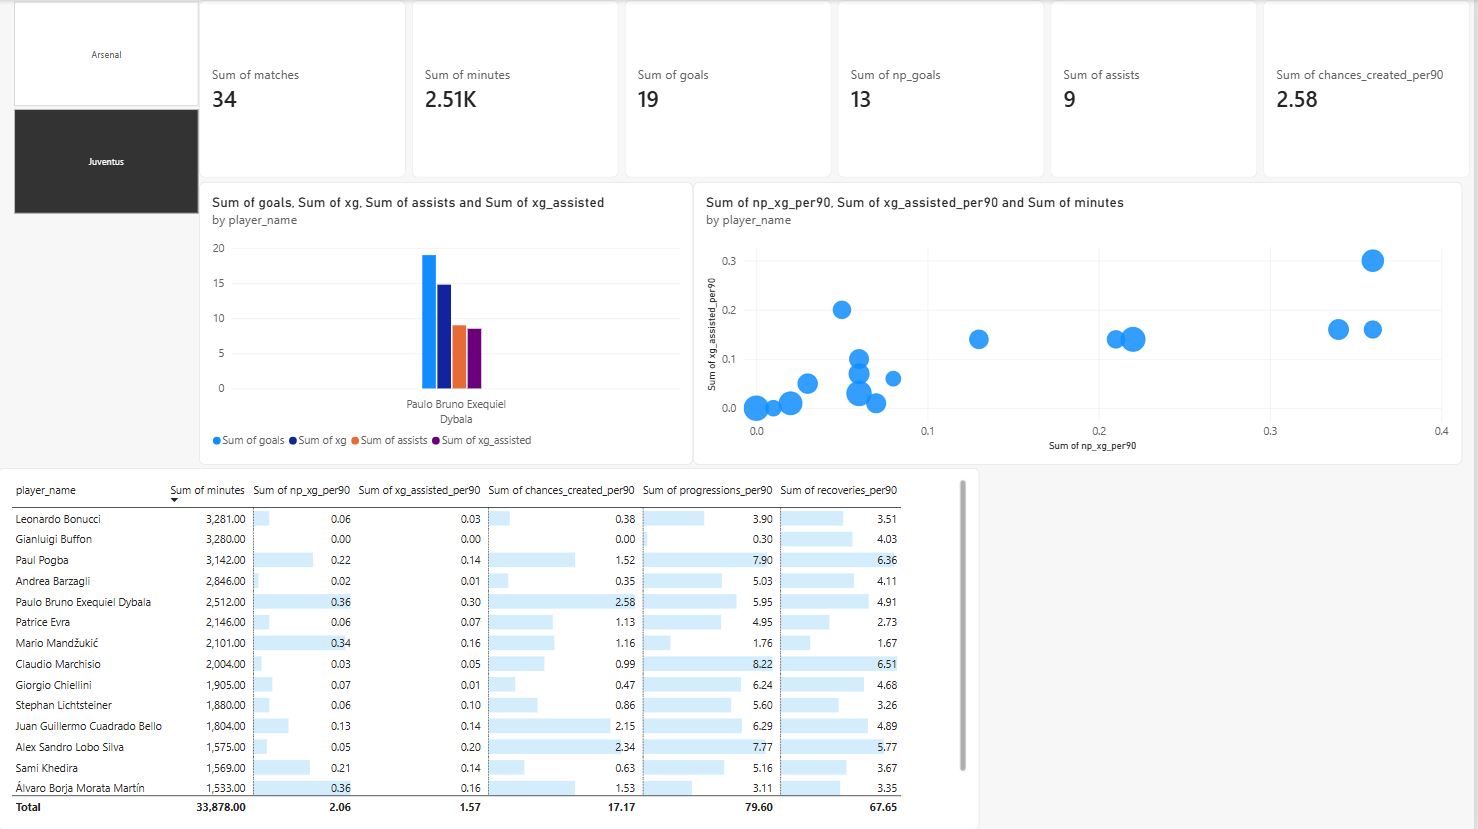

What the dashboard file says about the page in this screenshot:
{"tool":"powerbi","page":{"name":"Player Impact","canvas":[1920,1080],"ordinal":2},"visuals":[{"type":"slicer","fields":{"Values":["Teams.team"]},"box":[0,0,280,280],"z":0},{"type":"cardVisual","fields":{"Data":["Sum(player_stats.matches)","Sum(player_stats.minutes)","Sum(player_stats.goals)","Sum(player_stats.np_goals)","Sum(player_stats.assists)","Sum(player_stats.chances_created_per90)"]},"box":[261.2,0,1658.8,232],"z":1000},{"type":"clusteredColumnChart","fields":{"Category":["player_stats.player_name"],"Y":["Sum(player_stats.goals)","Sum(player_stats.xg)","Sum(player_stats.assists)","Sum(player_stats.xg_assisted)"]},"box":[261.2,236.4,643.4,367.7],"z":2000},{"type":"scatterChart","fields":{"Category":["player_stats.player_name"],"Size":["Sum(player_stats.minutes)"],"X":["Sum(player_stats.np_xg_per90)"],"Y":["Sum(player_stats.xg_assisted_per90)"]},"box":[904.8,236.4,1000.7,367.7],"z":3000},{"type":"tableEx","fields":{"Values":["player_stats.player_name","Sum(player_stats.minutes)","Sum(player_stats.np_xg_per90)","Sum(player_stats.xg_assisted_per90)","Sum(player_stats.chances_created_per90)","Sum(player_stats.progressions_per90)","Sum(player_stats.recoveries_per90)"]},"box":[0,608.4,1276.6,471.2],"z":4000}]}

Visuals, with their boxes in screenshot pixels (x1, y1, x2, y2), scaled from the page's 1920x1080 canvas onto the 1478x829 screenshot:
slicer - Teams.team: left=0, top=0, right=216, bottom=215
cardVisual - Sum(player_stats.matches) x Sum(player_stats.minutes): left=201, top=0, right=1477, bottom=178
clusteredColumnChart - player_stats.player_name x Sum(player_stats.goals): left=201, top=181, right=696, bottom=464
scatterChart - player_stats.player_name x Sum(player_stats.minutes): left=697, top=181, right=1467, bottom=464
tableEx - player_stats.player_name x Sum(player_stats.minutes): left=0, top=467, right=983, bottom=828
